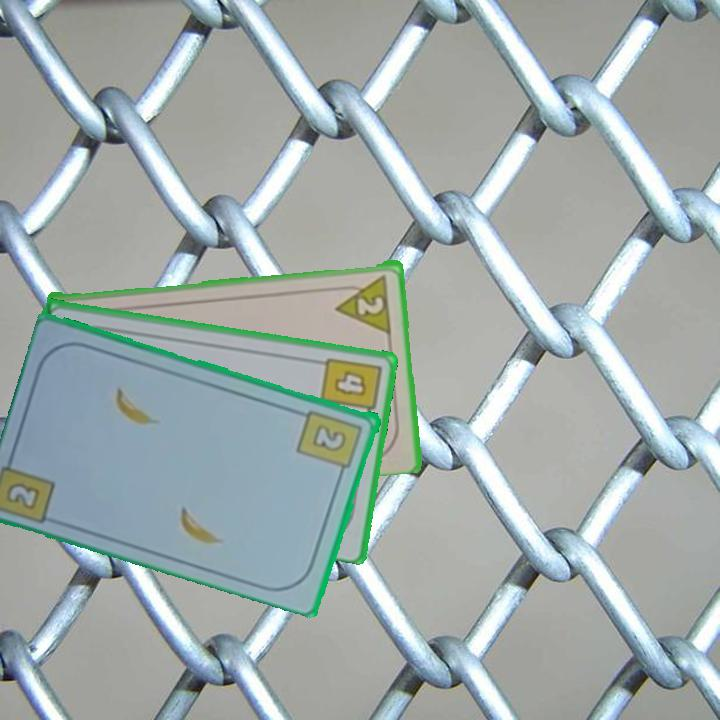2b: (294, 406, 366, 479), (3, 478, 44, 513)
2p: (331, 270, 395, 334)
4b: (317, 353, 384, 423)
